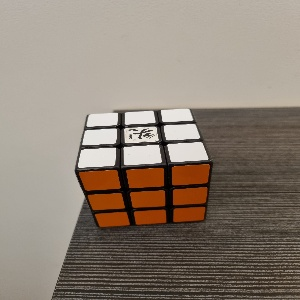cube: (75, 108, 213, 229)
